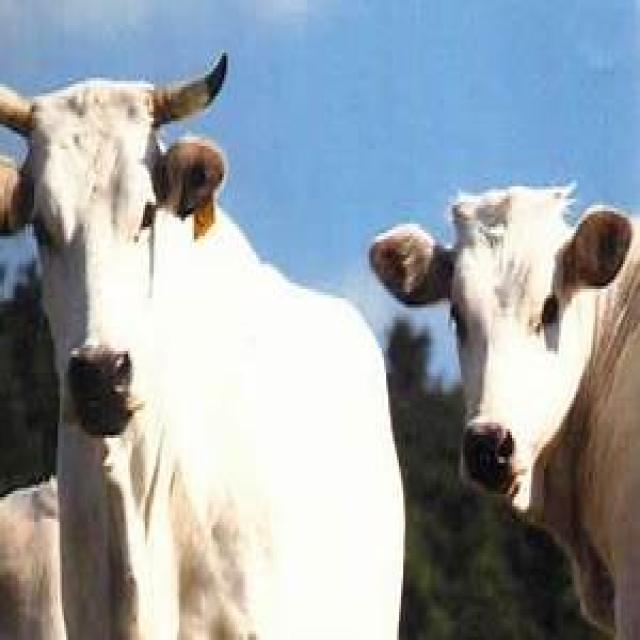cow: (0, 55, 404, 638), (371, 186, 640, 639)
